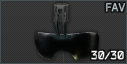Caiman Fixed Arm Visor: (0, 0, 127, 64)
